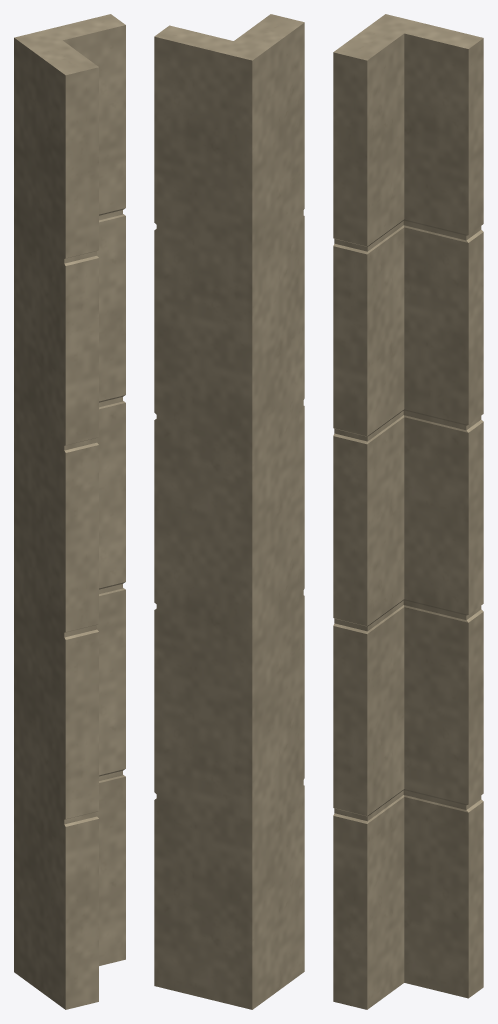
File: sandstone-corner.lod0.glb
The picture shows the model from 3 angles, left to right: view 1: azimuth 30°, elevation 25°; view 2: azimuth 150°, elevation 25°; view 3: azimuth 330°, elevation 25°; orthographic projection.
Parts seen in each view (by area): view 1: sandstone-corner; view 2: sandstone-corner; view 3: sandstone-corner.
Part boxes in pixels (x1,y1,x2,y2): sandstone-corner: (14, 14, 125, 1009); sandstone-corner: (154, 14, 304, 1009); sandstone-corner: (333, 14, 483, 1009).
Bounding box in the file's own units: 0.26 × 2.4 × 0.24.
1 material, 1 textured.
